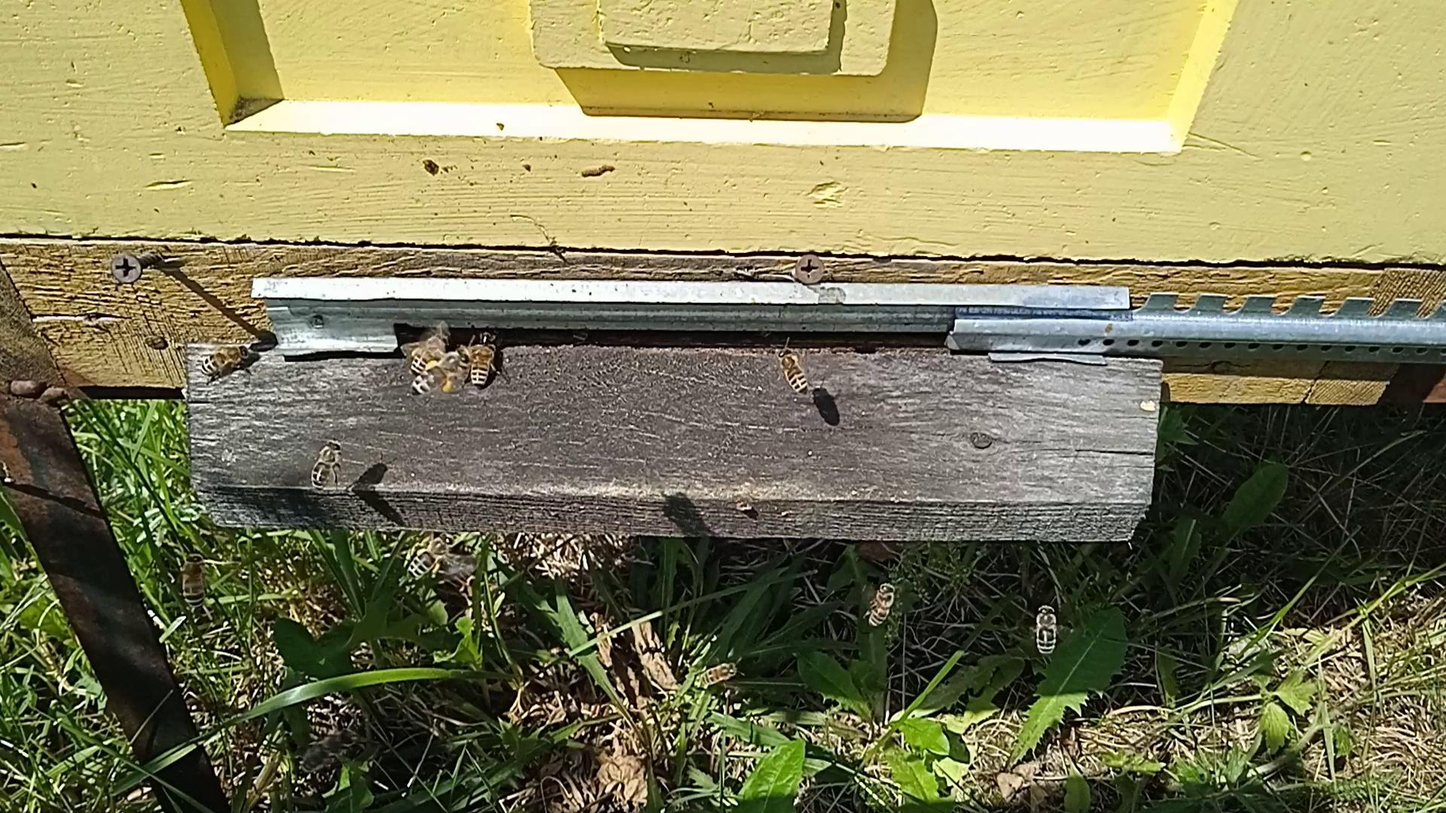worker-bee: (300, 728, 358, 773), (409, 353, 465, 396), (407, 531, 454, 578), (407, 328, 453, 376), (310, 438, 346, 492), (199, 346, 253, 379), (464, 338, 499, 388), (776, 346, 810, 394), (179, 553, 208, 609), (865, 580, 898, 628), (1033, 604, 1060, 656), (693, 661, 740, 687)
